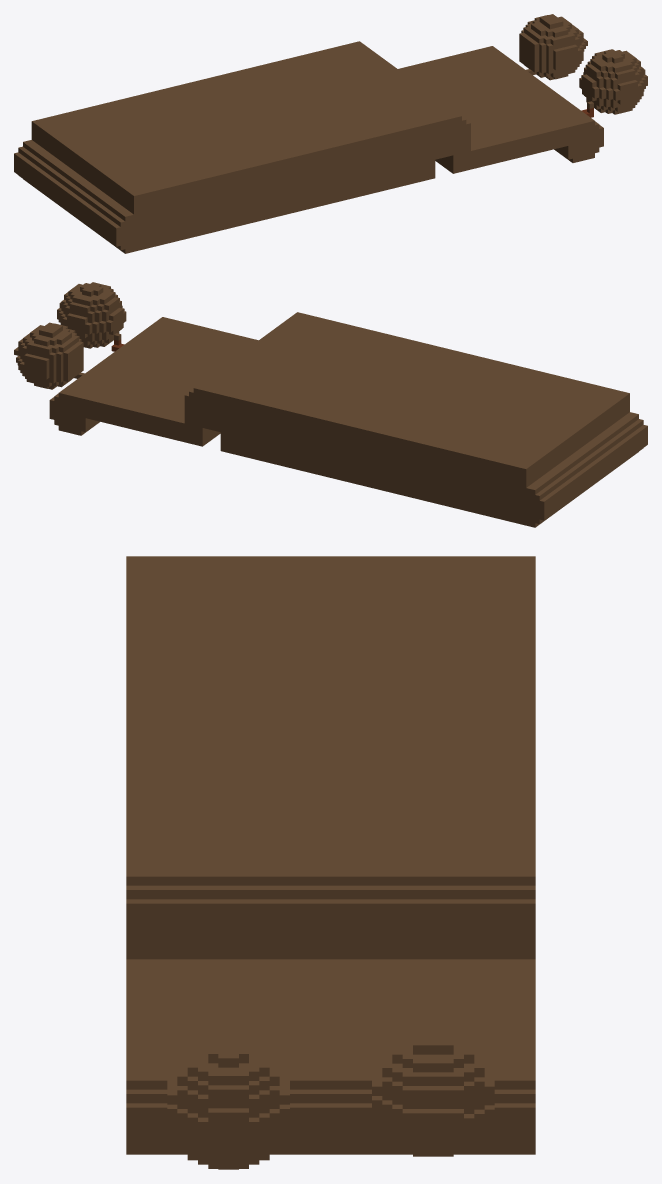
The model's file is scarf_fur.glb.
3 views of the same model, one above another, from view 1: azimuth 30°, elevation 25°; view 2: azimuth 150°, elevation 25°; view 3: azimuth 270°, elevation 25° (orthographic). The views are drawn at different scales.
Visible parts, largest first — view 1: scarf_fur:compound; view 2: scarf_fur:compound; view 3: scarf_fur:compound.
Part boxes in pixels (<box>): scarf_fur:compound: <box>14,14,647,253</box>; scarf_fur:compound: <box>14,282,647,527</box>; scarf_fur:compound: <box>126,556,535,1169</box>.
Bounding box in the file's own units: 0.496 × 0.064 × 0.16.
